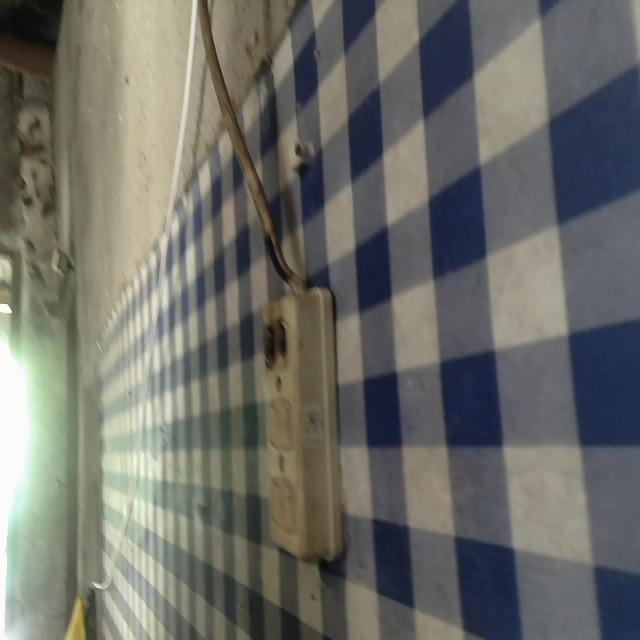-: (257, 315, 295, 372)
